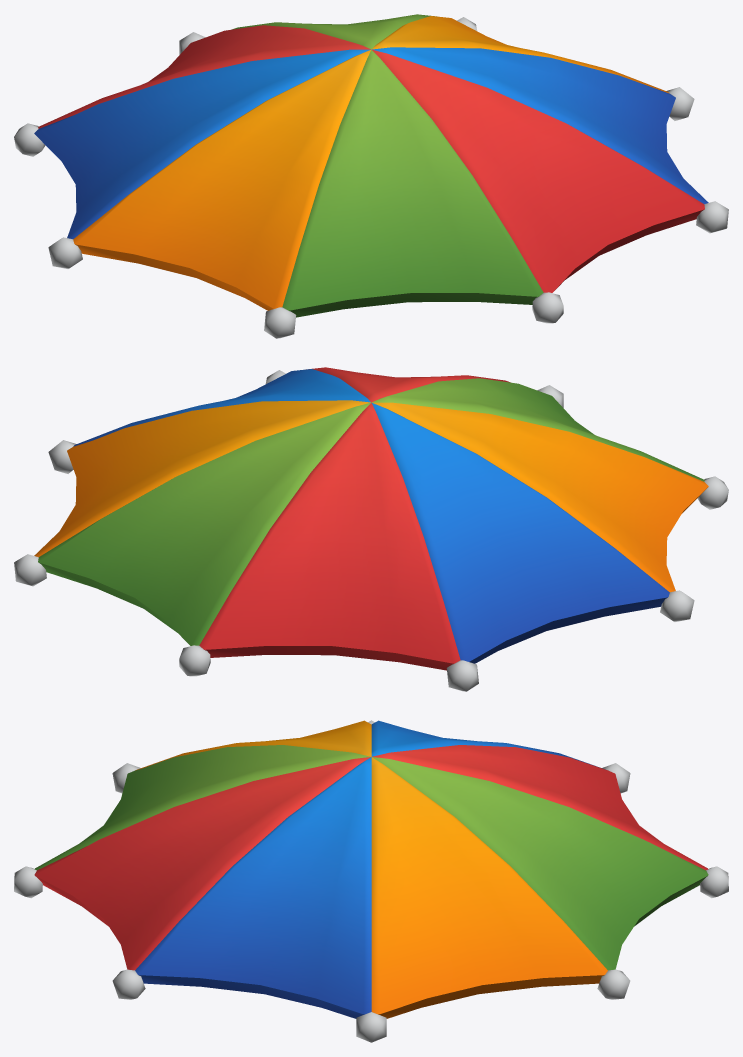
File: Hat_04.glb
3 renders of one model, top to bottom at view 1: azimuth 30°, elevation 25°; view 2: azimuth 150°, elevation 25°; view 3: azimuth 270°, elevation 25°, orthographic. The views are drawn at different scales.
Visible parts, largest first — view 1: Hat_04; view 2: Hat_04; view 3: Hat_04.
Part boxes in pixels (bbox=[...]): Hat_04: bbox=[14, 14, 728, 338]; Hat_04: bbox=[14, 367, 728, 691]; Hat_04: bbox=[14, 720, 728, 1042].
Bounding box in the file's own units: 1.04 × 0.2294 × 1.04.
Materials: 1 (1 with a texture image).
